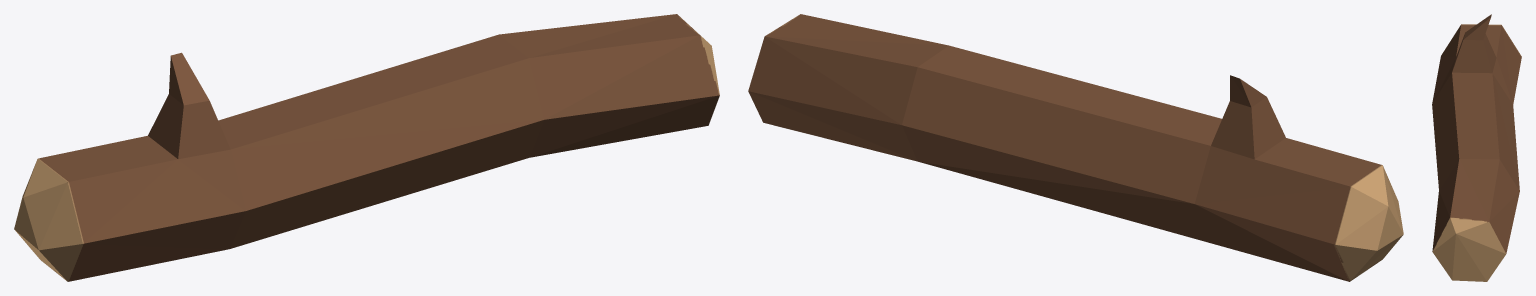
The model's file is Planta_rama_005.fbx.
The picture shows the model from 3 angles, left to right: view 1: azimuth 30°, elevation 25°; view 2: azimuth 150°, elevation 25°; view 3: azimuth 270°, elevation 25°; orthographic projection. The views are drawn at different scales.
Visible parts, largest first — view 1: Rama; view 2: Rama; view 3: Rama.
Boxes of the visible parts, box(x1,y1,x2,y2) form: Rama: box(14, 14, 719, 281); Rama: box(748, 14, 1403, 281); Rama: box(1432, 14, 1521, 281).
Bounding box in the file's own units: 43.67 × 11.3 × 8.02.
2 materials, 2 textured.
